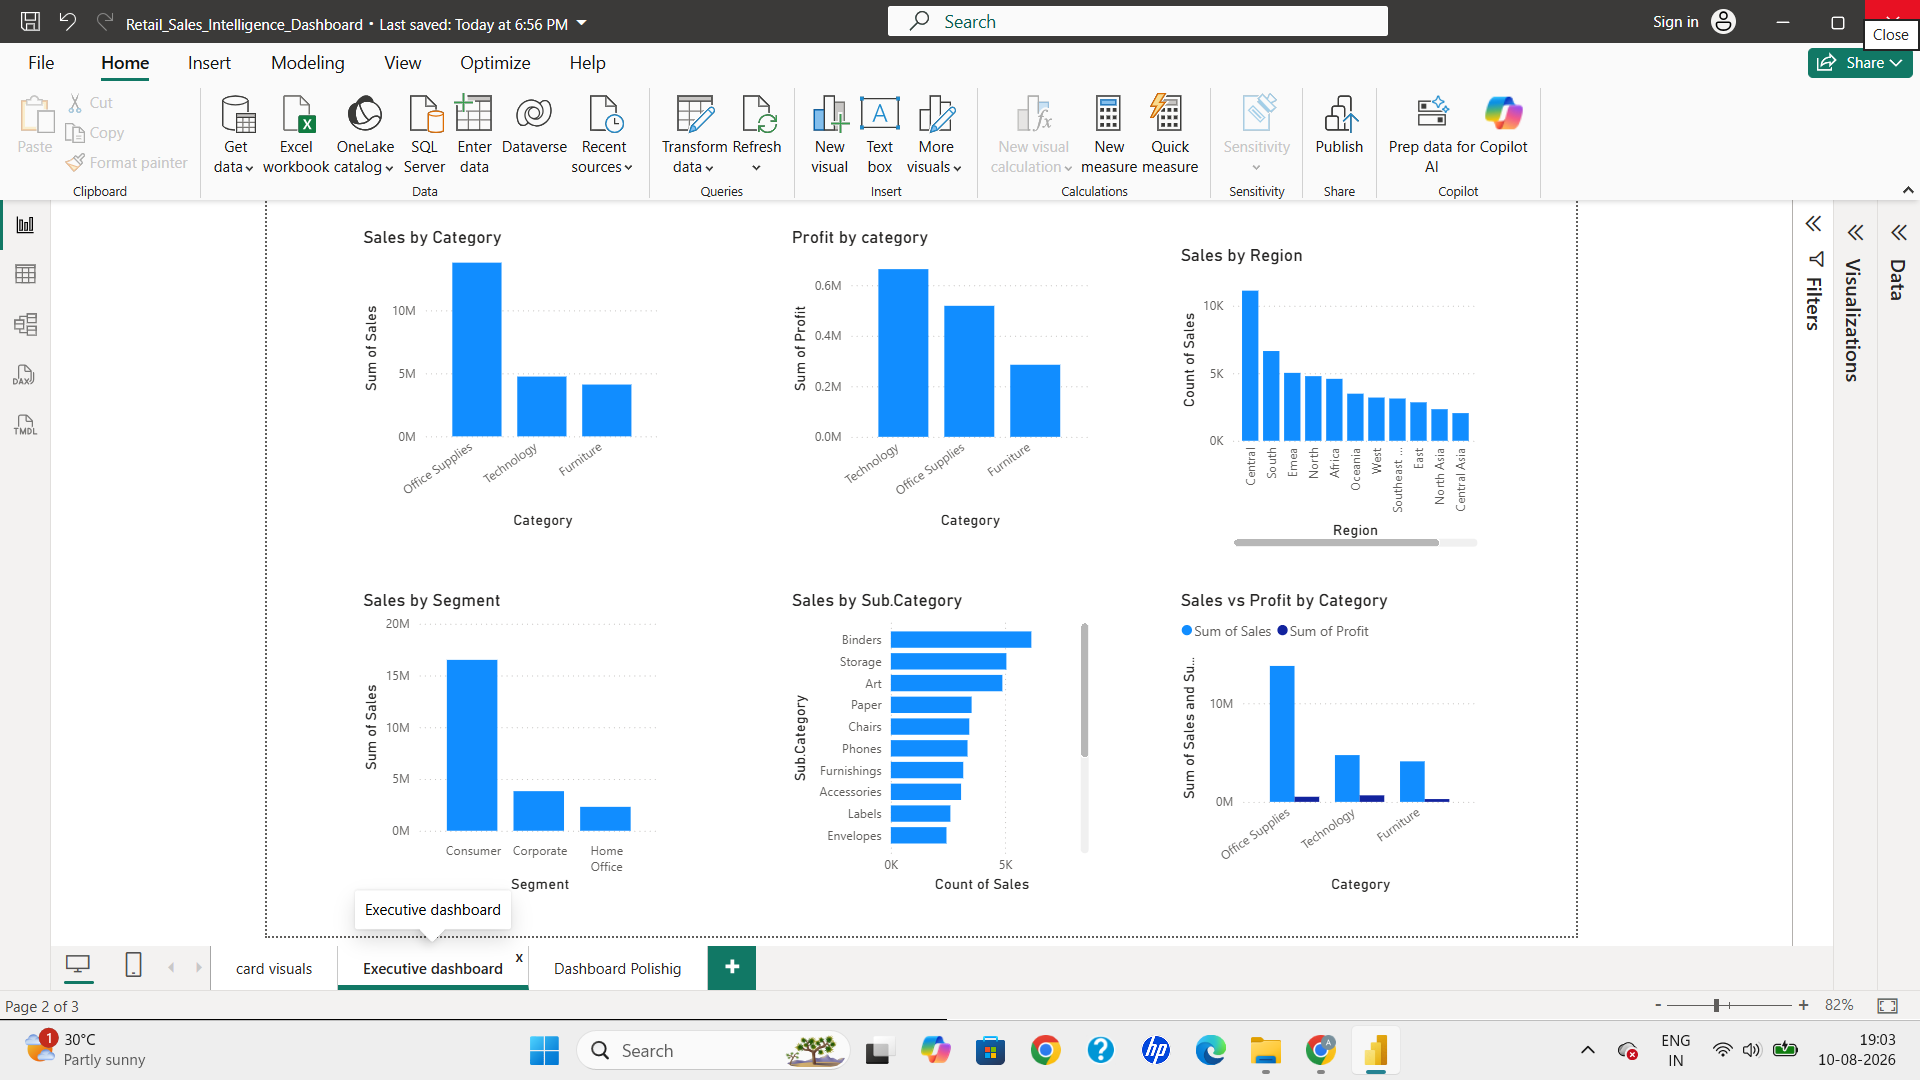

What the dashboard file says about the page in this screenshot:
{"tool":"powerbi","page":{"name":"Executive dashboard","canvas":[1280,720],"ordinal":1},"visuals":[{"type":"clusteredColumnChart","title":"Sales by Category","fields":{"Category":["Sales_Data.Category"],"Y":["Sum(Sales_Data.Sales)"]},"box":[89.2,26.1,300.5,300.5],"z":0},{"type":"clusteredColumnChart","title":" Sales by Region","fields":{"Category":["Sales_Data.Region"],"Y":["CountNonNull(Sales_Data.Sales)"]},"box":[889.2,43.9,300.5,300.5],"z":1000},{"type":"clusteredColumnChart","title":" Sales by Segment","fields":{"Category":["Sales_Data.Segment"],"Y":["Sum(Sales_Data.Sales)"]},"box":[89.2,381.5,300.5,300.5],"z":2000},{"type":"clusteredBarChart","title":"Sales by Sub.Category","fields":{"Category":["Sales_Data.Sub.Category"],"Y":["CountNonNull(Sales_Data.Sales)"]},"box":[509.1,381.5,300.5,300.5],"z":3000},{"type":"clusteredColumnChart","title":"Profit by category","fields":{"Category":["Sales_Data.Category"],"Y":["Sum(Sales_Data.Profit)"]},"box":[509,26,301,301],"z":4000},{"type":"clusteredColumnChart","title":"Sales vs Profit by Category","fields":{"Category":["Sales_Data.Category"],"Y":["Sum(Sales_Data.Sales)","Sum(Sales_Data.Profit)"]},"box":[889,381,301,301],"z":5000}]}

Visuals, with their boxes on the page's 1280x720 design canvas (x1, y1, x2, y2). These are canvas units, not pixel positions in the 1920x1080 screenshot, which may show the page scaled, cropped or inside an application window:
"Sales by Category" clusteredColumnChart: [left=89, top=26, right=390, bottom=327]
" Sales by Region" clusteredColumnChart: [left=889, top=44, right=1190, bottom=344]
" Sales by Segment" clusteredColumnChart: [left=89, top=382, right=390, bottom=682]
"Sales by Sub.Category" clusteredBarChart: [left=509, top=382, right=810, bottom=682]
"Profit by category" clusteredColumnChart: [left=509, top=26, right=810, bottom=327]
"Sales vs Profit by Category" clusteredColumnChart: [left=889, top=381, right=1190, bottom=682]
